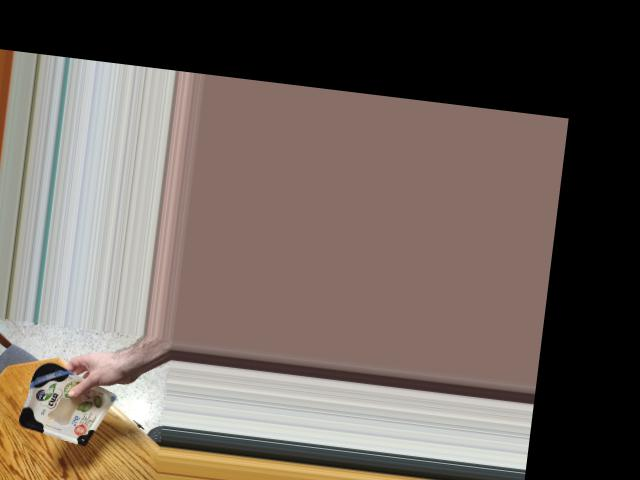cheese: (19, 362, 104, 445)
